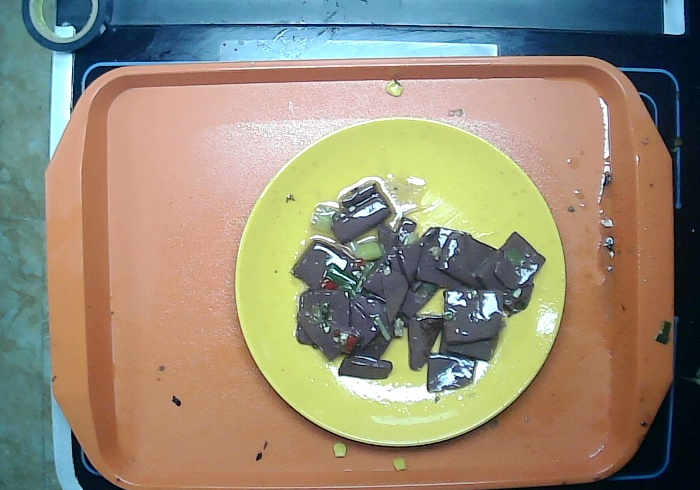HZYJPL-Huang_Se_Yuan_Pan: (230, 109, 573, 450)
